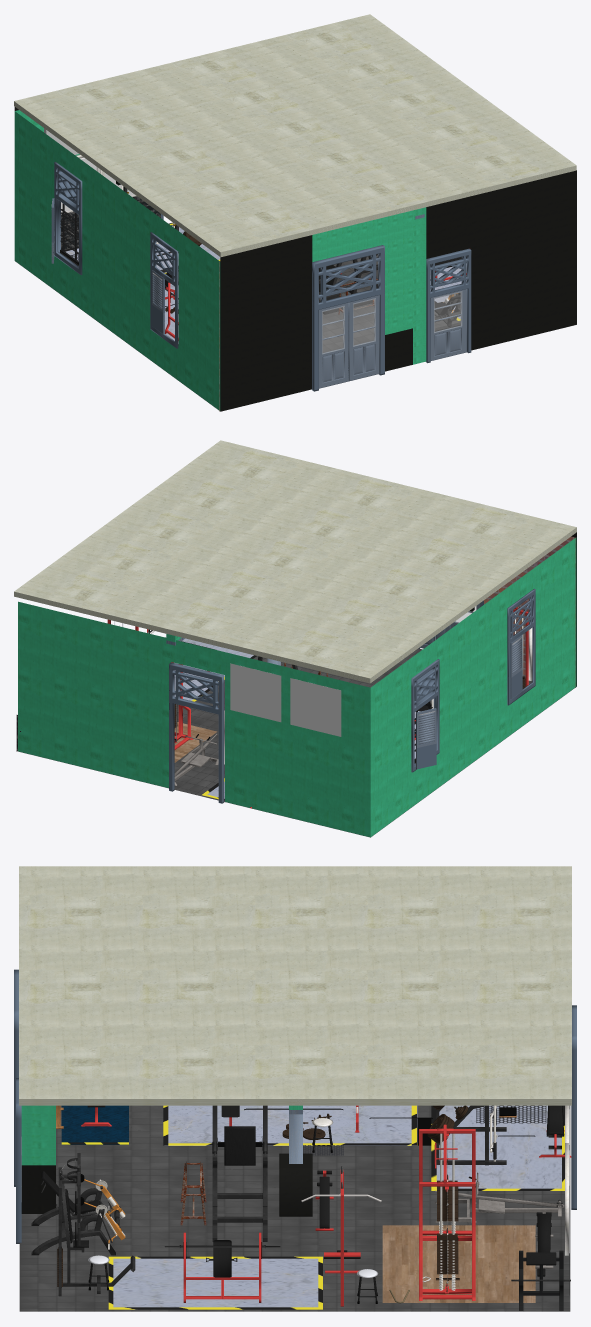
File: gym_restructured.glb
3 renders of one model, top to bottom at view 1: azimuth 30°, elevation 25°; view 2: azimuth 150°, elevation 25°; view 3: azimuth 270°, elevation 25°, orthographic. The views are drawn at different scales.
Parts seen in each view (by area): view 1: Roof, Wall 2, Wall, Door, Floor.001, Window Base, Window Base.003, Window.001, Leg_Machine, Wallpaper, Cube.006, Pull_Hang; view 2: Roof, Wall, Door, Floor.001, Plane.022, Plane.023, Window Base.003, Window Base, Window, Wallpaper 2, Incline_Lever, Window.001 (+3 smaller); view 3: Roof, Floor.001, Plane.006, Plane.005, Plane.017, Plane.019, Cable_Station, Wall 2, Pull_Hang, Leg_Machine, Door, Pillar (+12 smaller).
Boxes of the visible parts, bbox=[...] form: Roof: bbox=[14, 14, 576, 257]; Wall 2: bbox=[220, 170, 576, 411]; Wall: bbox=[14, 107, 220, 410]; Door: bbox=[161, 214, 471, 391]; Floor.001: bbox=[15, 222, 460, 409]; Window Base: bbox=[54, 162, 82, 274]; Window Base.003: bbox=[150, 232, 178, 348]; Window.001: bbox=[152, 270, 164, 334]; Leg_Machine: bbox=[434, 293, 460, 331]; Wallpaper: bbox=[61, 196, 178, 344]; Cube.006: bbox=[60, 203, 78, 262]; Pull_Hang: bbox=[319, 254, 378, 314]; Roof: bbox=[14, 440, 576, 683]; Wall: bbox=[18, 537, 576, 837]; Door: bbox=[169, 600, 483, 803]; Floor.001: bbox=[16, 648, 574, 837]; Plane.022: bbox=[290, 678, 341, 736]; Plane.023: bbox=[230, 663, 281, 722]; Window Base.003: bbox=[507, 589, 535, 705]; Window Base: bbox=[411, 659, 439, 772]; Window: bbox=[416, 708, 436, 769]; Wallpaper 2: bbox=[484, 536, 575, 687]; Incline_Lever: bbox=[174, 733, 218, 785]; Window.001: bbox=[510, 634, 522, 698]; Roof: bbox=[19, 866, 571, 1114]; Floor.001: bbox=[19, 1105, 570, 1311]; Plane.006: bbox=[108, 1256, 322, 1309]; Plane.005: bbox=[382, 1225, 535, 1302]; Plane.017: bbox=[163, 1105, 417, 1145]; Plane.019: bbox=[431, 1105, 564, 1190]; Cable_Station: bbox=[419, 1124, 475, 1300]; Wall 2: bbox=[21, 1105, 55, 1213]; Pull_Hang: bbox=[212, 1105, 267, 1241]; Leg_Machine: bbox=[31, 1171, 125, 1255]; Door: bbox=[14, 969, 576, 1243]; Pillar: bbox=[279, 1114, 312, 1216].
Size of the model in its own units: 10.49 by 4.33 by 10.31.
Materials: 31 (26 with a texture image).
